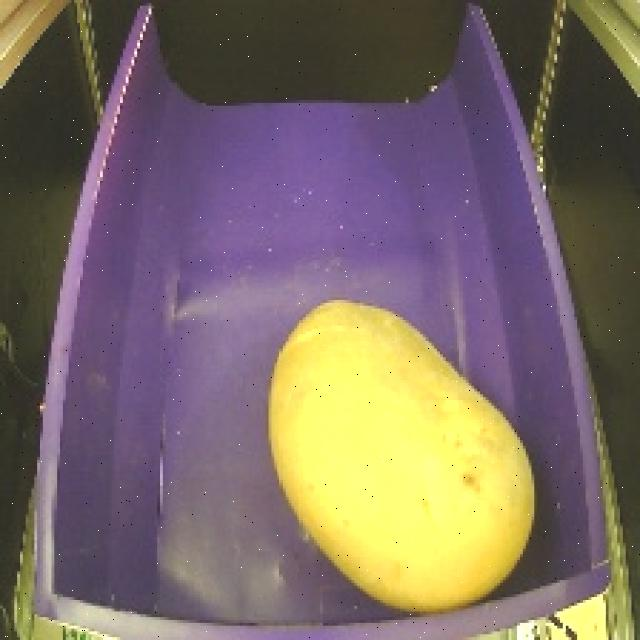full_potato: (256, 286, 550, 624)
